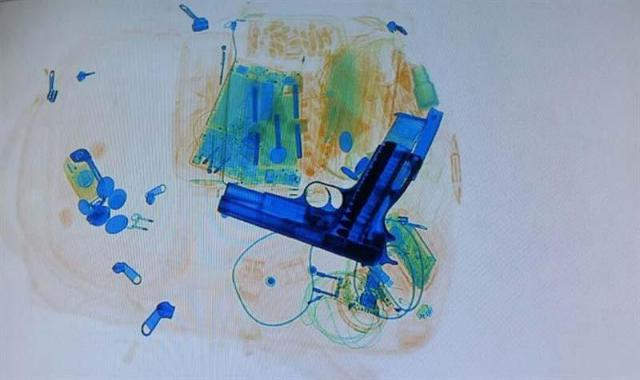Gun: (210, 104, 444, 264)
